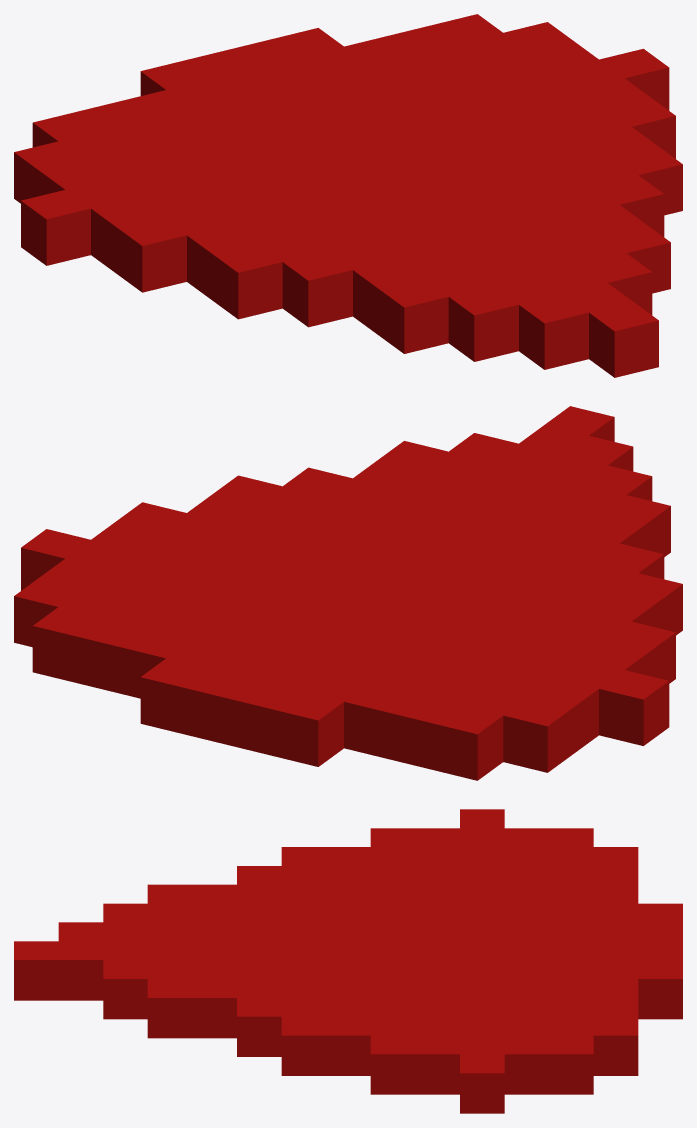
The model's file is plectrum.glb.
3 views of the same model, one above another, from view 1: azimuth 30°, elevation 25°; view 2: azimuth 150°, elevation 25°; view 3: azimuth 270°, elevation 25° (orthographic). The views are drawn at different scales.
Visible parts, largest first — view 1: plectrum:compound; view 2: plectrum:compound; view 3: plectrum:compound.
Boxes of the visible parts, x1=… form: plectrum:compound: x1=14, y1=14, x2=682, y2=377; plectrum:compound: x1=14, y1=406, x2=682, y2=780; plectrum:compound: x1=14, y1=809, x2=682, y2=1113.
Size of the model in its own units: 0.028 by 0.002 by 0.03.
